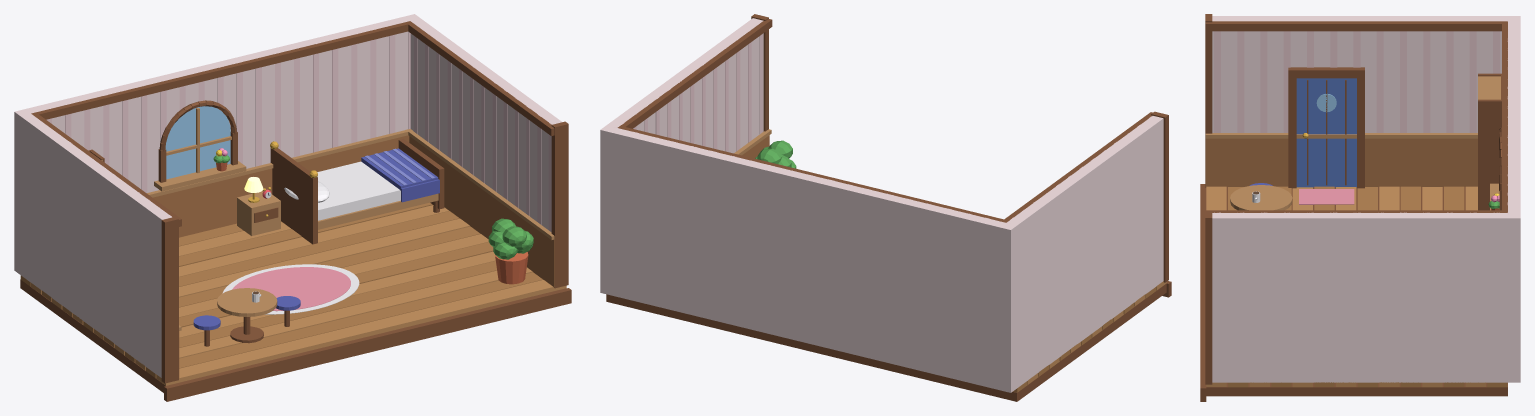
File: room.glb
The picture shows the model from 3 angles, left to right: view 1: azimuth 30°, elevation 25°; view 2: azimuth 150°, elevation 25°; view 3: azimuth 270°, elevation 25°; orthographic projection. The views are drawn at different scales.
Visible parts, largest first — view 1: Room; view 2: Room; view 3: Room.
Part boxes in pixels (<box>): Room: <box>14,14,571,401</box>; Room: <box>600,14,1171,401</box>; Room: <box>1200,14,1520,401</box>.
Bounding box in the file's own units: 9.6 × 4.03 × 6.36.
